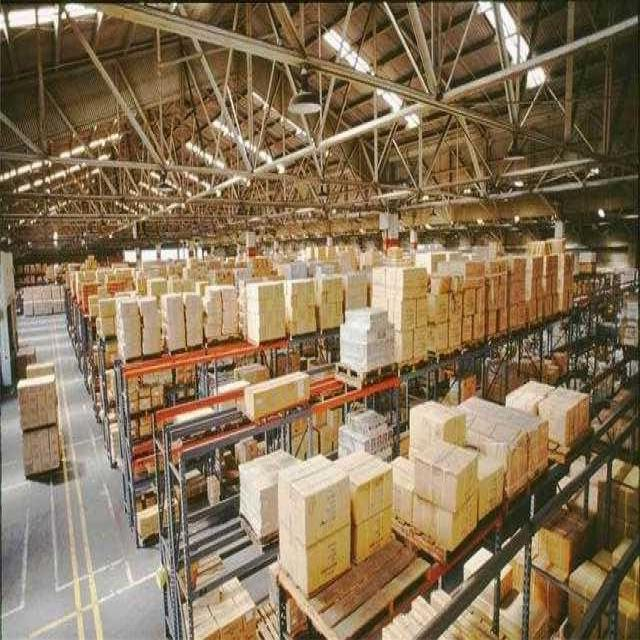box: (277, 524, 352, 586), (280, 472, 348, 533), (244, 374, 308, 419), (409, 396, 463, 443), (349, 463, 392, 521), (429, 451, 475, 504), (339, 326, 392, 369), (545, 393, 587, 435), (25, 426, 57, 476), (21, 382, 54, 427), (257, 286, 284, 334), (386, 268, 427, 298), (215, 592, 248, 622), (510, 386, 546, 409), (344, 307, 385, 324), (167, 297, 184, 337), (143, 299, 158, 343), (186, 297, 204, 333), (393, 301, 415, 329), (121, 304, 136, 340), (395, 328, 411, 359), (430, 274, 451, 295), (412, 328, 427, 356), (415, 299, 428, 326), (207, 475, 218, 504), (465, 263, 485, 278)
